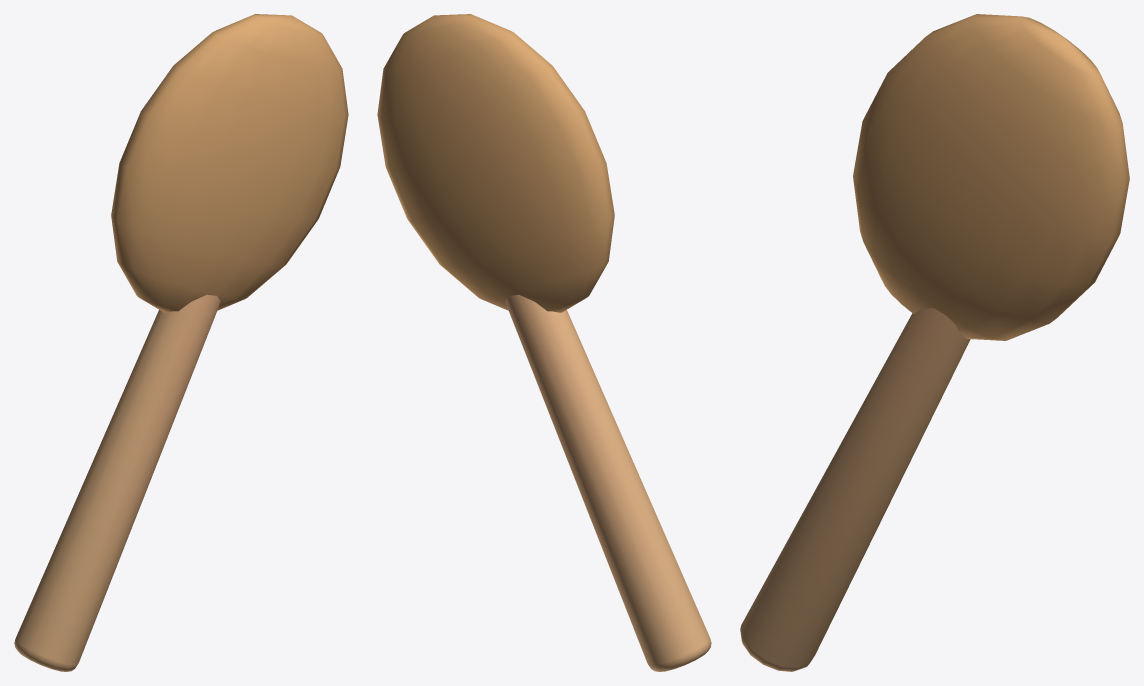
Rendered from spoon.glb.
The picture shows the model from 3 angles, left to right: view 1: azimuth 30°, elevation 25°; view 2: azimuth 150°, elevation 25°; view 3: azimuth 330°, elevation 25°; orthographic projection. The views are drawn at different scales.
Parts seen in each view (by area): view 1: scoop, handle; view 2: scoop, handle; view 3: scoop, handle.
Part boxes in pixels (bbox=[...]): scoop: bbox=[111, 14, 348, 312]; handle: bbox=[14, 295, 220, 671]; scoop: bbox=[377, 14, 614, 312]; handle: bbox=[505, 295, 711, 671]; scoop: bbox=[853, 14, 1129, 340]; handle: bbox=[740, 308, 970, 671].
Bounding box in the file's own units: 0.6533 × 1.16 × 0.1517.
